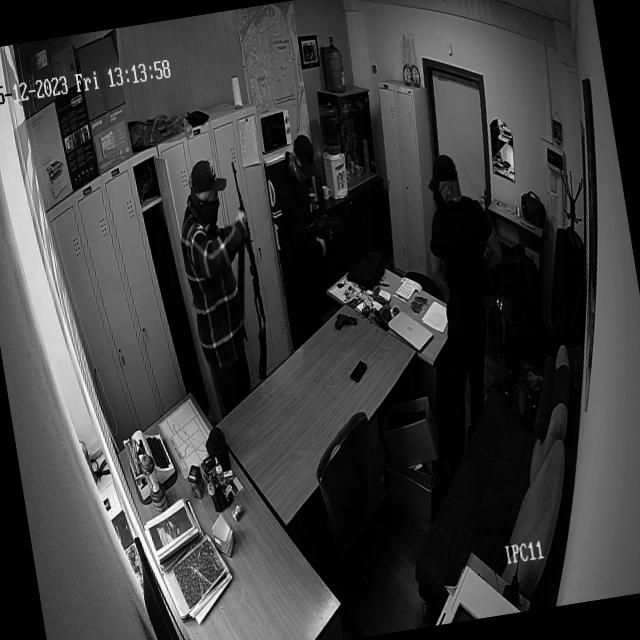gun: (230, 160, 268, 326), (303, 212, 345, 240), (333, 308, 359, 332)
person: (417, 145, 522, 429)
person with a gun: (168, 130, 278, 428), (250, 116, 360, 358)
